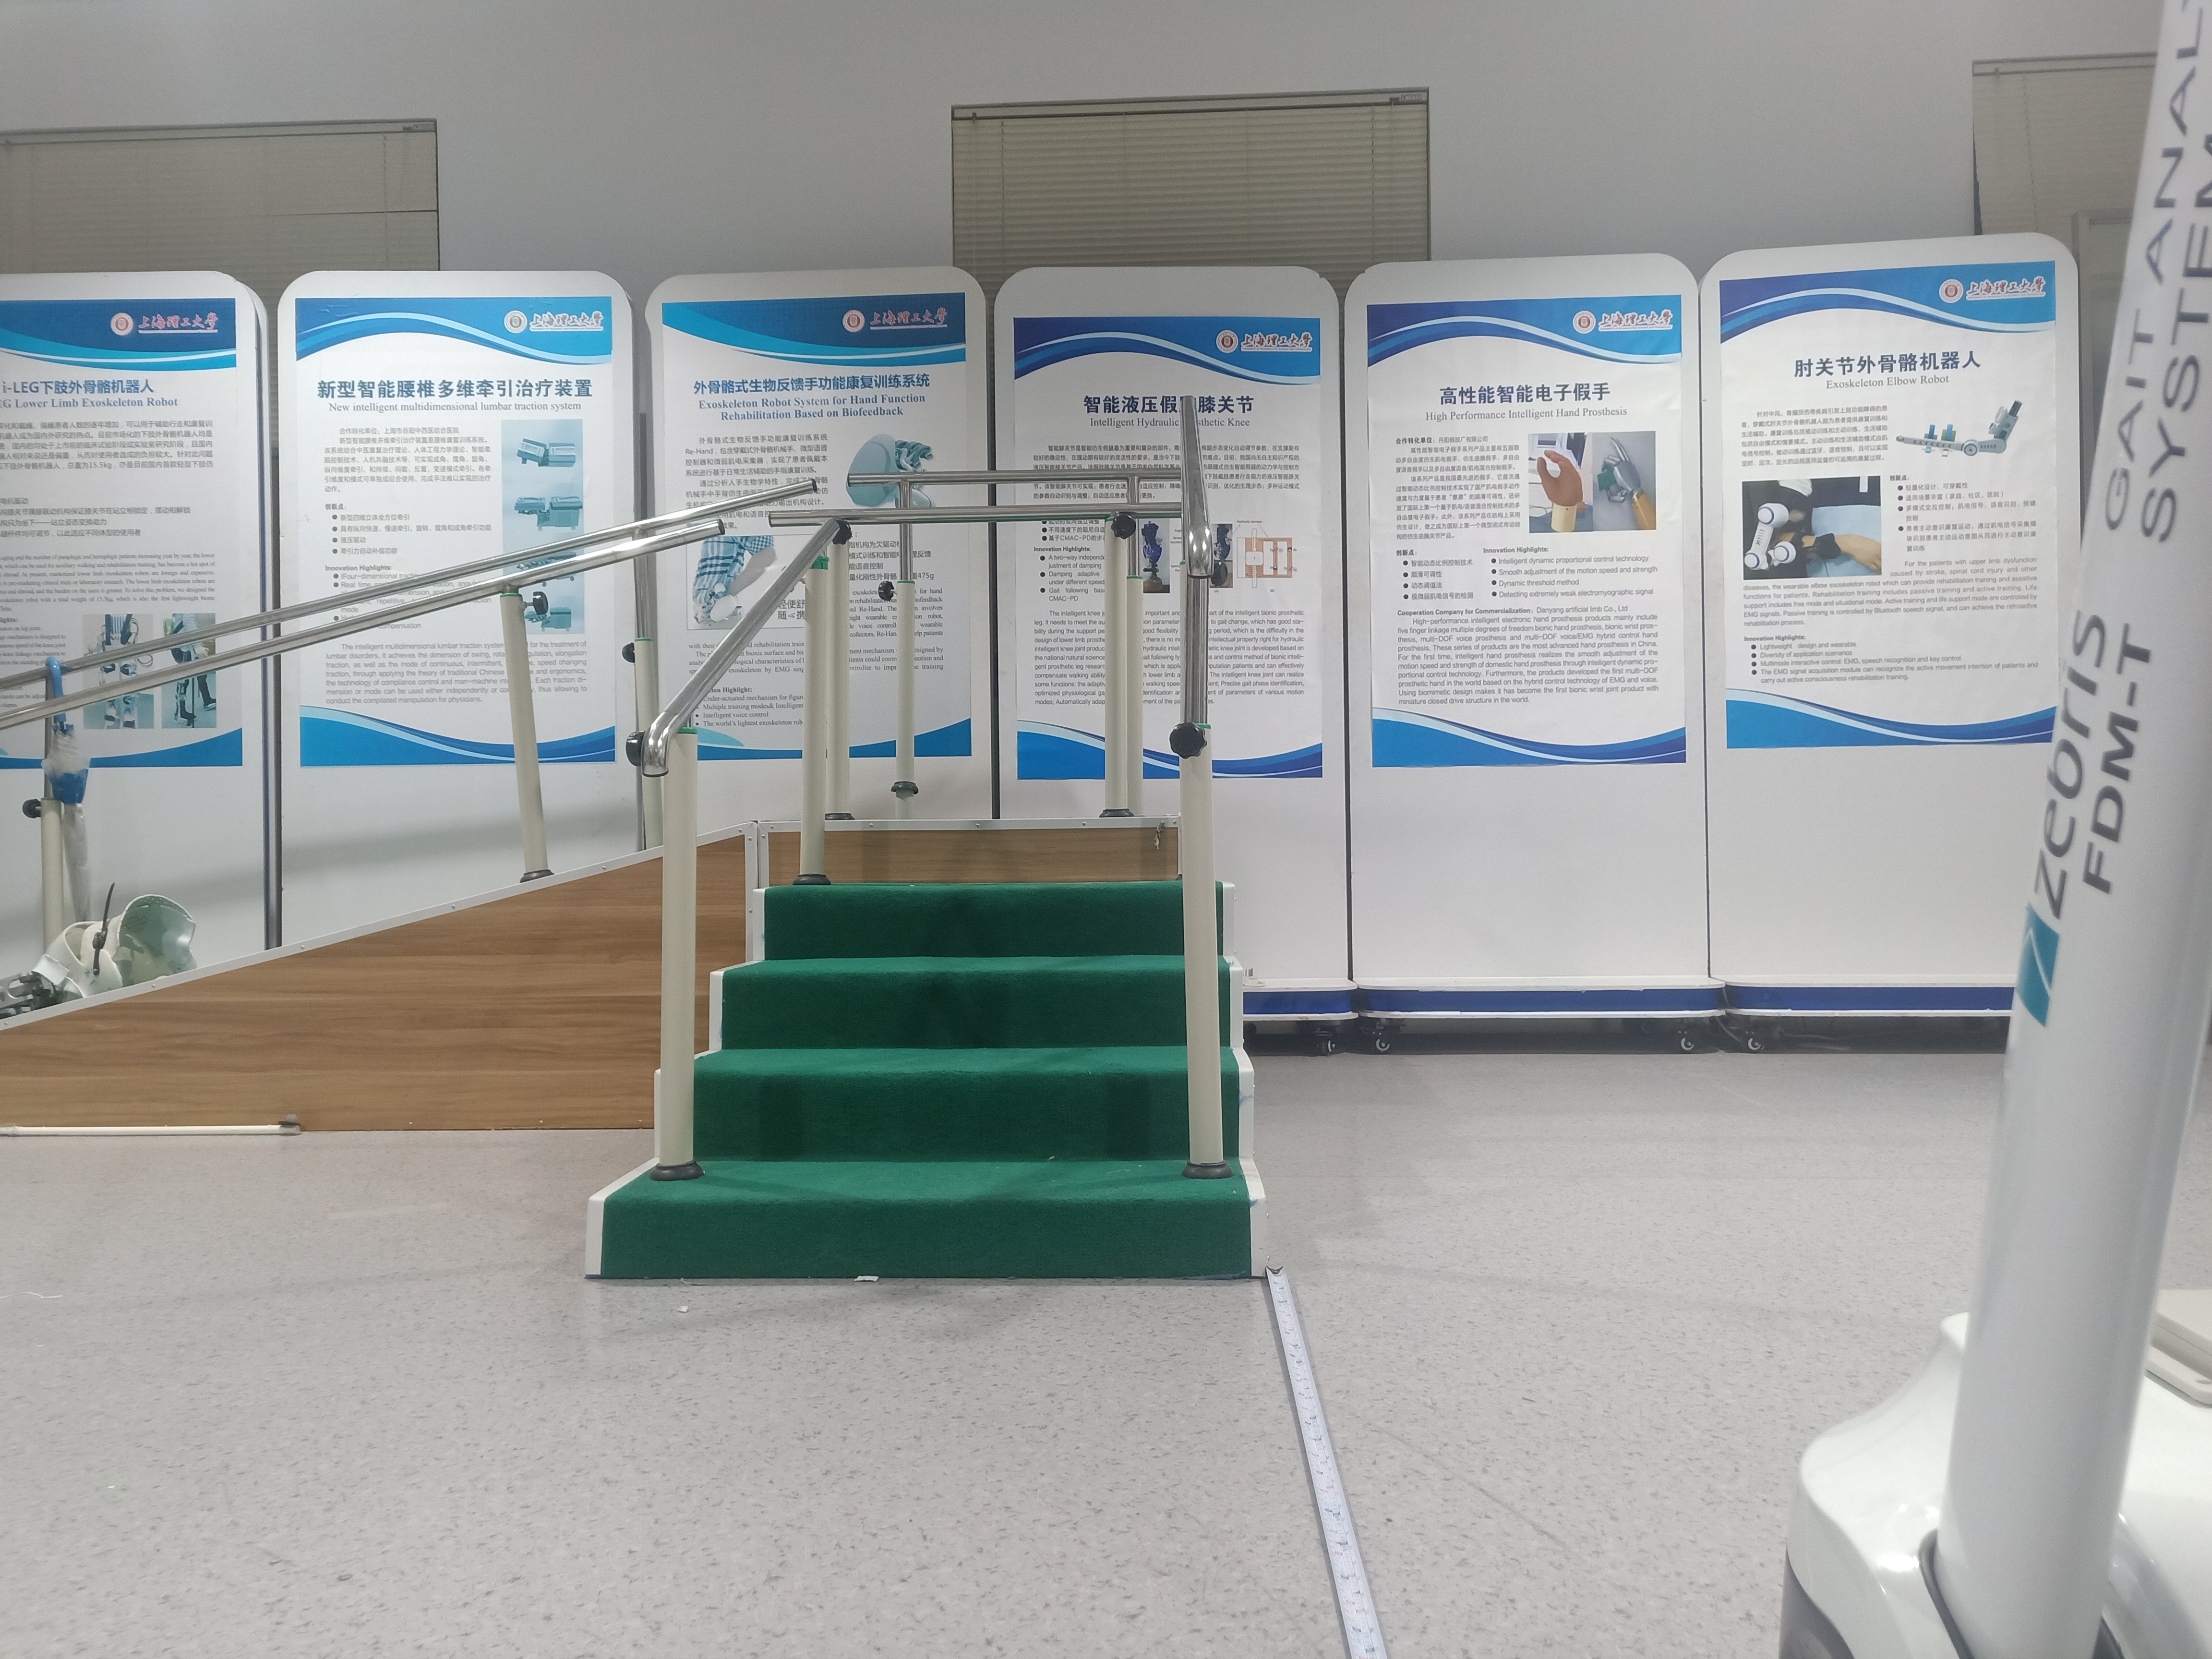stairs: (580, 882, 1266, 1286)
